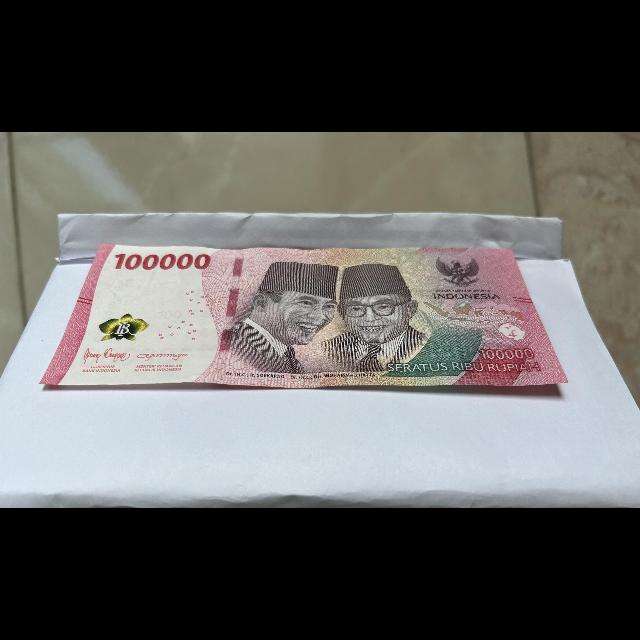Asli-100k: (35, 241, 579, 395)
Tinta-Asli-100k: (93, 312, 154, 343)
